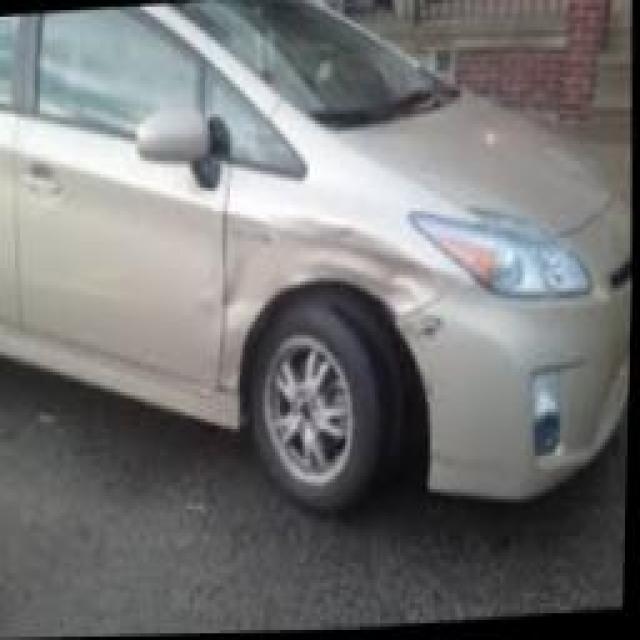Bumper: (397, 281, 529, 502), (583, 316, 632, 469)
Fender: (218, 170, 474, 393)
